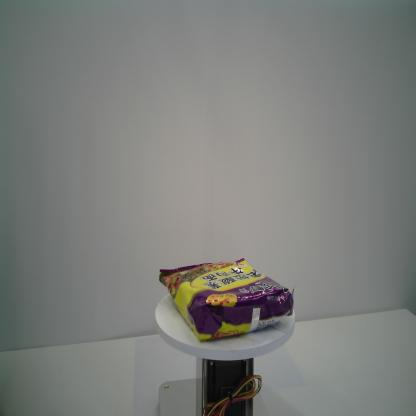Instant Noodles: (158, 258, 296, 344)
